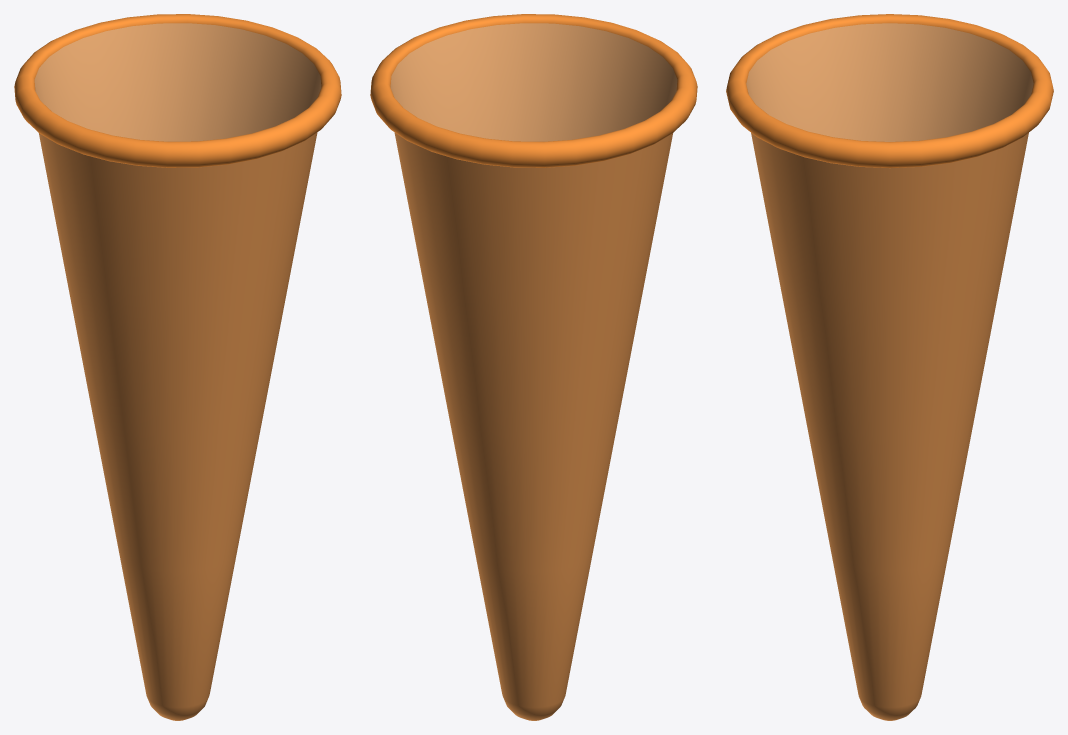
Rendered from Cone Ice Cream B.fbx.
3 views of the same model, side by side, from view 1: azimuth 30°, elevation 25°; view 2: azimuth 150°, elevation 25°; view 3: azimuth 270°, elevation 25° (orthographic).
Parts seen in each view (by area): view 1: Cone Ice Cream B; view 2: Cone Ice Cream B; view 3: Cone Ice Cream B.
Boxes of the visible parts, bbox=[...] form: Cone Ice Cream B: bbox=[14, 14, 341, 720]; Cone Ice Cream B: bbox=[370, 14, 697, 720]; Cone Ice Cream B: bbox=[726, 14, 1053, 720].
Bounding box in the file's own units: 0.395 × 0.8493 × 0.395.
